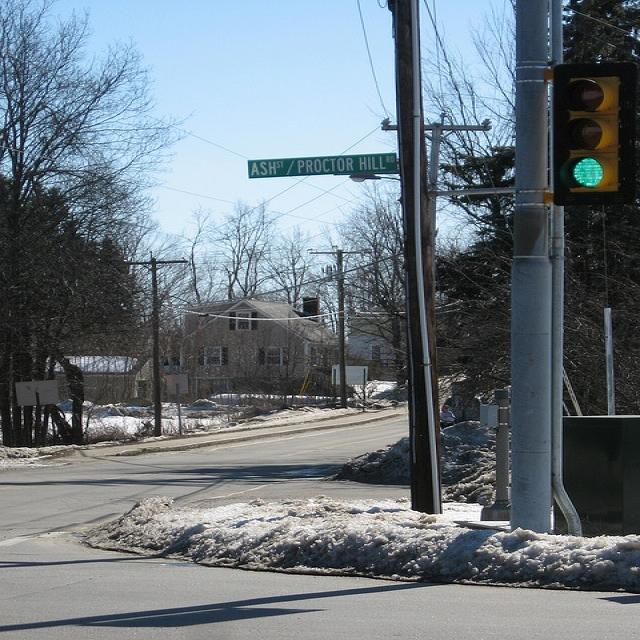car: (181, 400, 216, 408)
pole: (496, 3, 561, 533), (384, 4, 448, 512), (148, 257, 167, 436), (331, 248, 348, 407)
